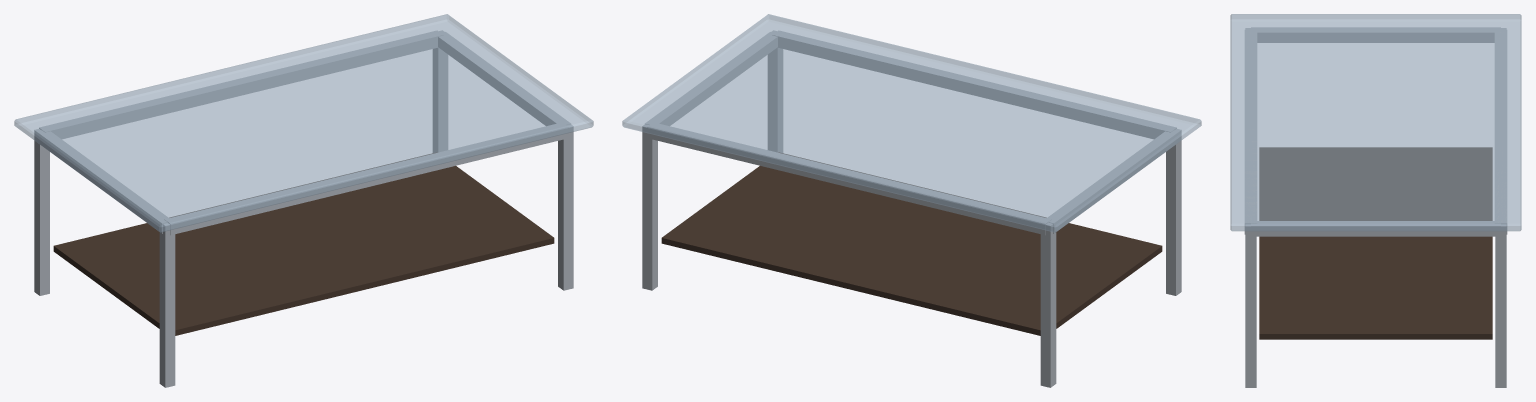
The model's file is coffee_table.glb.
3 views of the same model, side by side, from view 1: azimuth 30°, elevation 25°; view 2: azimuth 150°, elevation 25°; view 3: azimuth 270°, elevation 25° (orthographic).
Visible parts, largest first — view 1: coffee_table; view 2: coffee_table; view 3: coffee_table.
Part boxes in pixels (box(x1,y1,x2,y2)): coffee_table: box(14, 14, 593, 387); coffee_table: box(622, 14, 1201, 387); coffee_table: box(1230, 14, 1521, 387).
Size of the model in its own units: 1.2 by 0.45 by 0.7.
